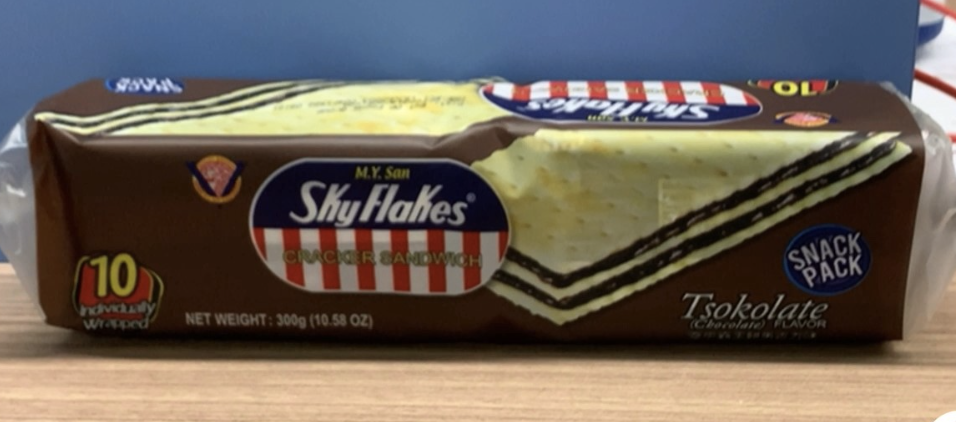crackers_450g: (64, 90, 896, 334)
